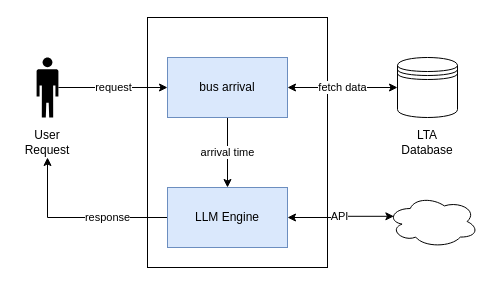
Image size: 496x285. Some labels were removed from this diagram. Each missing label, with the box of its shape:
Bus App: (146, 16, 328, 268)
LLM: (386, 194, 478, 248)
